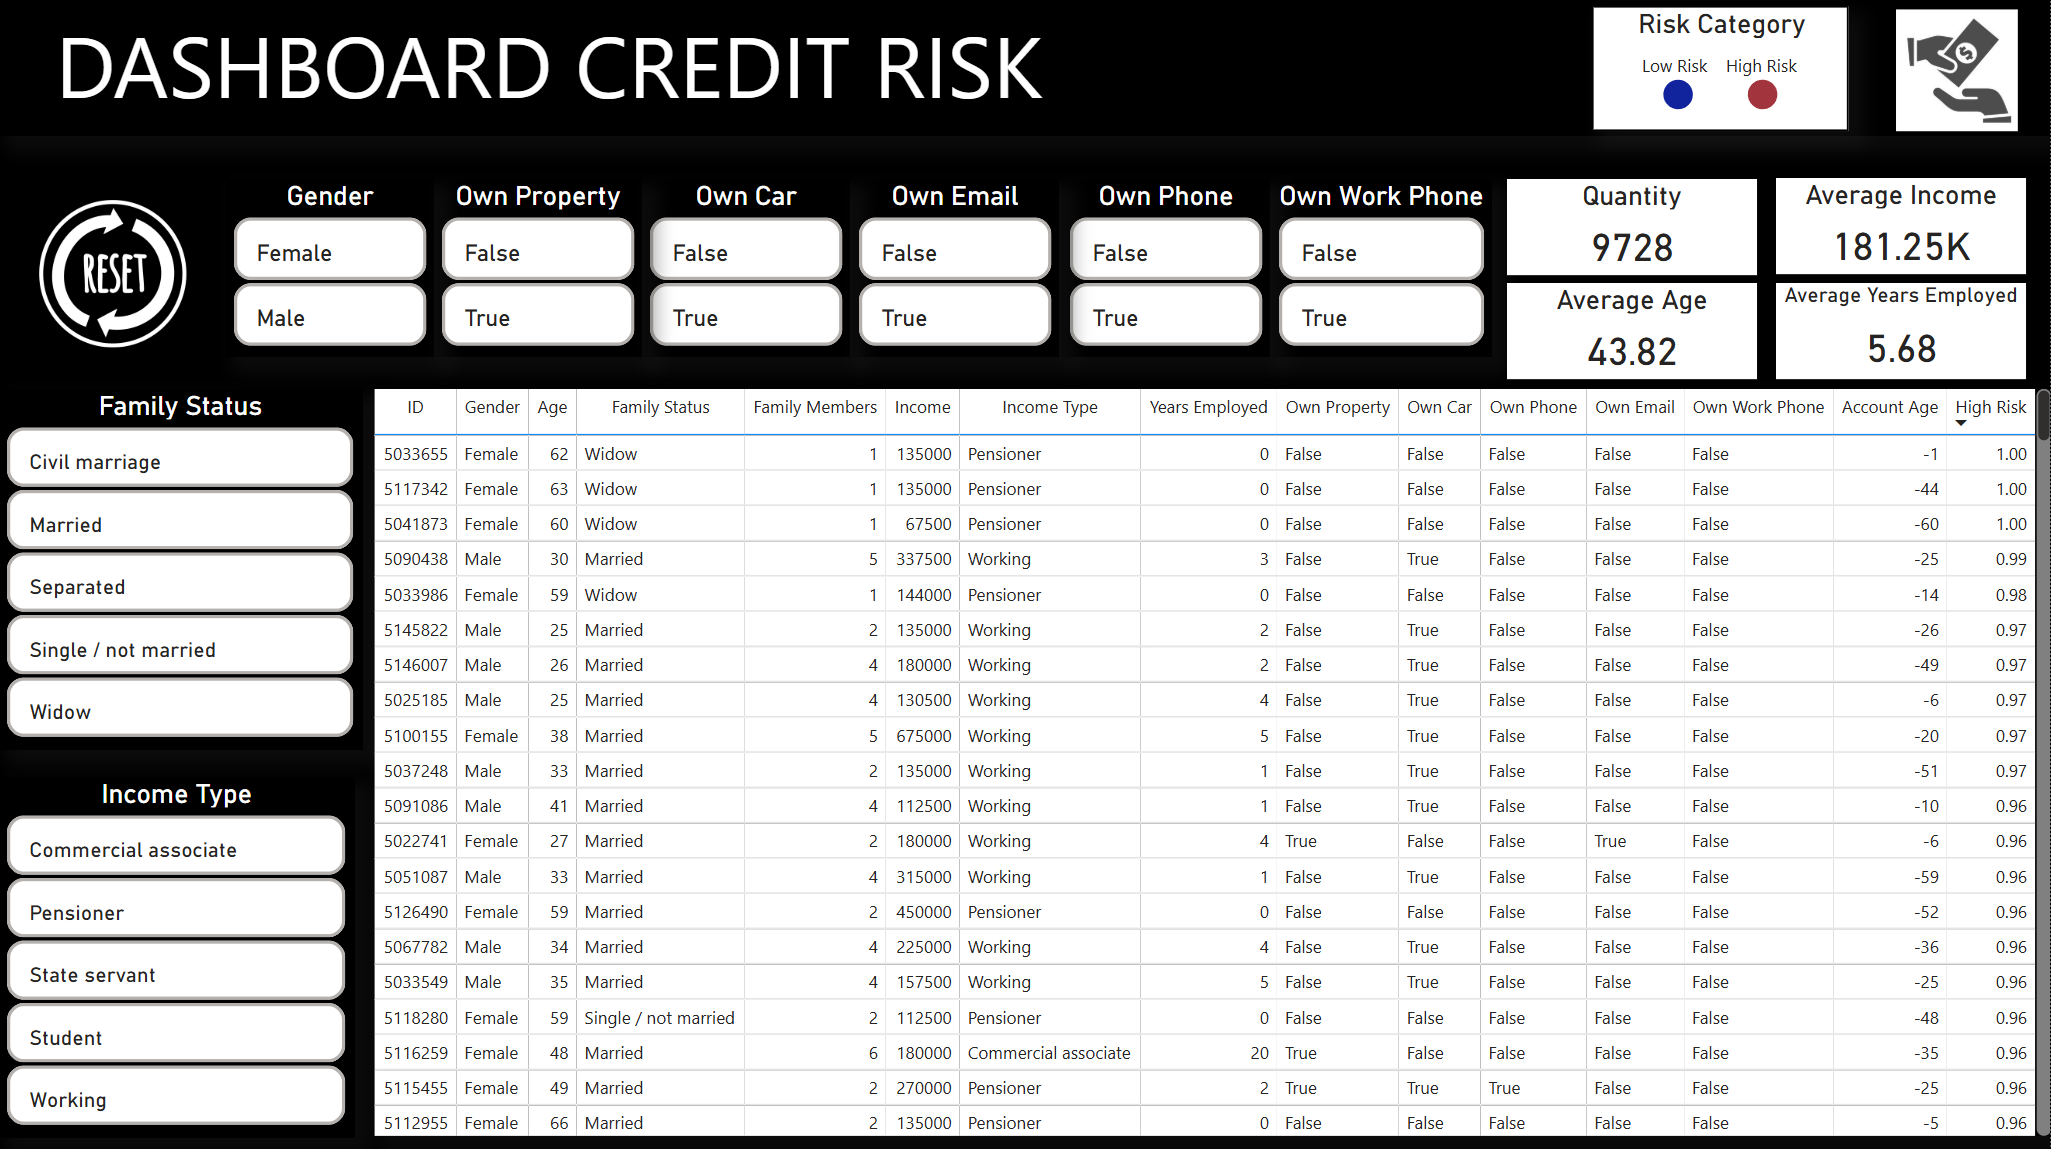

Layout of this report page (visuals, bound fields, positions):
{"tool":"powerbi","page":{"name":"Client Search","canvas":[1280,720],"ordinal":1},"visuals":[{"type":"textbox","box":[0,0,1280,88.5],"z":0},{"type":"scatterChart","title":"Risk Category","fields":{"X":["Sheet1.risk_category"]},"box":[993.8,6.7,160.2,78.4],"z":1000},{"type":"advancedSlicerVisual","title":"Gender","fields":{"Values":["Sheet1.gender"]},"box":[141.4,114.6,130,110.6],"z":2000},{"type":"advancedSlicerVisual","title":"Family Status","fields":{"Values":["Sheet1.family_status"]},"box":[0,245.9,226.5,224.5],"z":3000},{"type":"advancedSlicerVisual","title":"Income Type","fields":{"Values":["Sheet1.income_type"]},"box":[0,487.9,221.8,224.5],"z":4000},{"type":"card","title":"Average Income","fields":{"Values":["Sheet1.income"]},"box":[1108.4,113.9,156.1,59.6],"z":5000},{"type":"advancedSlicerVisual","title":"Own Car","fields":{"Values":["Sheet1.own_car"]},"box":[401.4,114.6,130,110.6],"z":6000},{"type":"advancedSlicerVisual","title":"Own Property","fields":{"Values":["Sheet1.own_property"]},"box":[271.4,114.6,130,110.6],"z":7000},{"type":"advancedSlicerVisual","title":"Own Phone","fields":{"Values":["Sheet1.own_phone"]},"box":[663.5,114.6,130,110.6],"z":8000},{"type":"advancedSlicerVisual","title":"Own Email","fields":{"Values":["Sheet1.own_email"]},"box":[531.4,114.6,130,110.6],"z":9000},{"type":"advancedSlicerVisual","title":"Own Work Phone","fields":{"Values":["Sheet1.own_work_phone"]},"box":[793.5,114.6,138.1,110.6],"z":10000},{"type":"card","title":"Quantity","fields":{"Values":["Sheet1.ID"]},"box":[940.9,114.6,156.1,59.6],"z":11000},{"type":"card","title":"Average Years Employed","fields":{"Values":["Sheet1.years_employed"]},"box":[1108.4,179.6,156.1,59.6],"z":12000},{"type":"image","box":[0,122.6,141.4,101.9],"z":13000},{"type":"card","title":"Average Age","fields":{"Values":["Sheet1.age"]},"box":[940.9,179.6,156.1,59.6],"z":14000},{"type":"textbox","box":[1020,29.5,125.3,28.8],"z":15000},{"type":"image","box":[1178.8,0,85.8,93.8],"z":16000},{"type":"tableEx","fields":{"Values":["Sheet1.ID","Sheet1.gender","Sheet1.age","Sheet1.family_status","Sheet1.family_members","Sheet1.income","Sheet1.income_type","Sheet1.years_employed","Sheet1.own_property","Sheet1.own_car","Sheet1.own_phone","Sheet1.own_email"]},"box":[233.2,245.9,1046.8,466.4],"z":17000}]}

Visuals, with their boxes in screenshot pixels (x1, y1, x2, y2), scaled from the page's 1280x720 canvas onto the 2051x1149 screenshot:
textbox: (x1=0, y1=0, x2=2050, y2=141)
"Risk Category" scatterChart: (x1=1592, y1=11, x2=1849, y2=136)
"Gender" advancedSlicerVisual: (x1=227, y1=183, x2=435, y2=359)
"Family Status" advancedSlicerVisual: (x1=0, y1=392, x2=363, y2=751)
"Income Type" advancedSlicerVisual: (x1=0, y1=779, x2=355, y2=1137)
"Average Income" card: (x1=1776, y1=182, x2=2026, y2=277)
"Own Car" advancedSlicerVisual: (x1=643, y1=183, x2=851, y2=359)
"Own Property" advancedSlicerVisual: (x1=435, y1=183, x2=643, y2=359)
"Own Phone" advancedSlicerVisual: (x1=1063, y1=183, x2=1271, y2=359)
"Own Email" advancedSlicerVisual: (x1=851, y1=183, x2=1060, y2=359)
"Own Work Phone" advancedSlicerVisual: (x1=1271, y1=183, x2=1493, y2=359)
"Quantity" card: (x1=1508, y1=183, x2=1758, y2=278)
"Average Years Employed" card: (x1=1776, y1=287, x2=2026, y2=382)
image: (x1=0, y1=196, x2=227, y2=358)
"Average Age" card: (x1=1508, y1=287, x2=1758, y2=382)
textbox: (x1=1634, y1=47, x2=1835, y2=93)
image: (x1=1889, y1=0, x2=2026, y2=150)
tableEx - Sheet1.ID x Sheet1.gender: (x1=374, y1=392, x2=2050, y2=1137)
